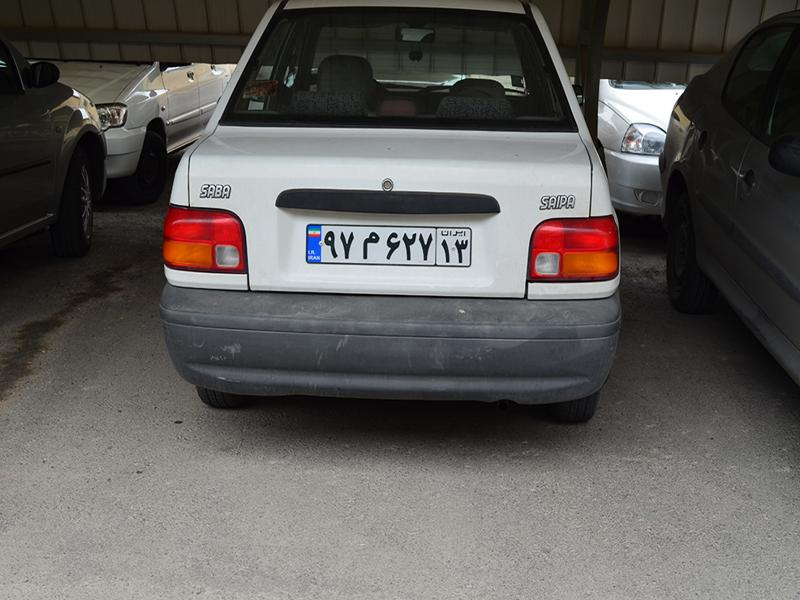Plate: (305, 216, 481, 278)
